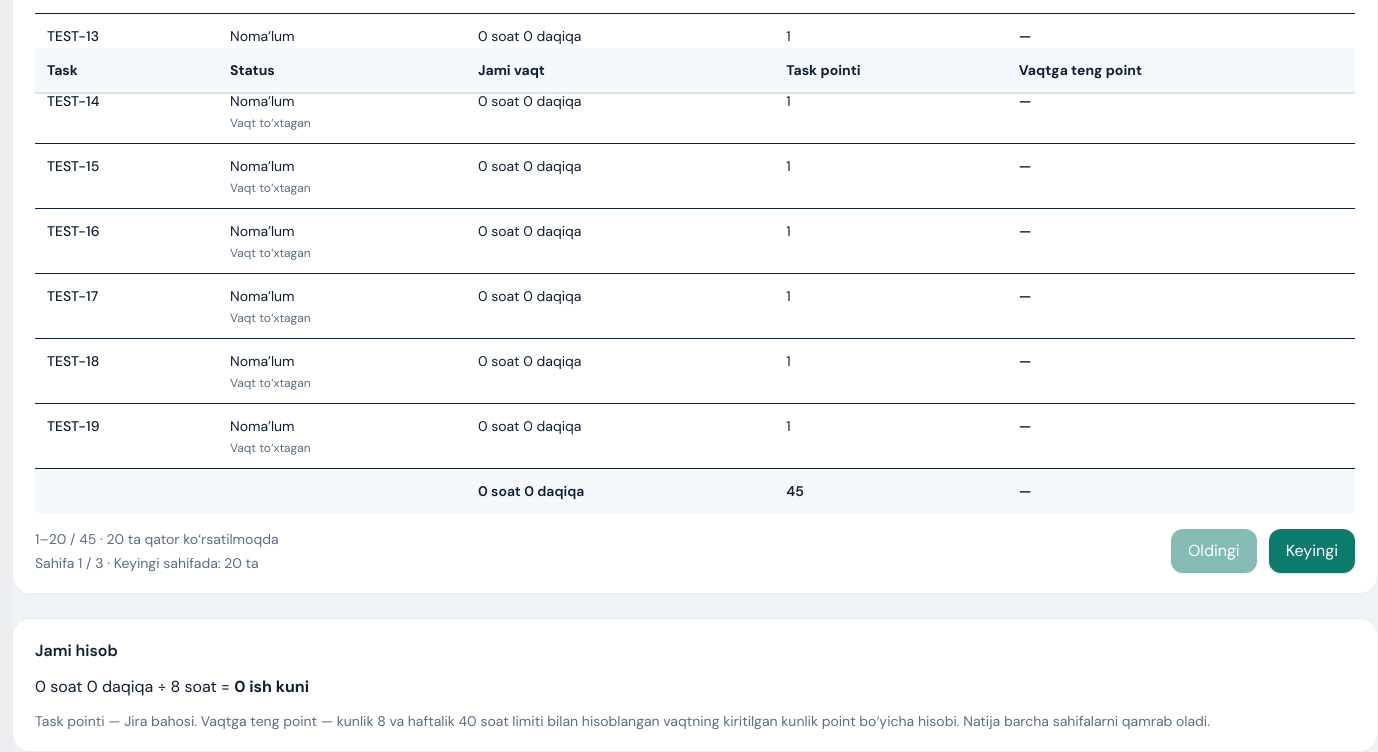
Test: Team Analytics view › shows row ranges, page numbers and the next page size
(page scrolled)
Expected: the text "1–20 / 45 · 20 ta qator ko‘rsatilmoqda" is shown, [35,529,279,549]
Expected: the text "Sahifa 1 / 3 · Keyingi sahifada: 20 ta" is shown, [35,553,279,573]
Click the button "Keyingi" at x=1312, y=551, box [1269,529,1355,573]
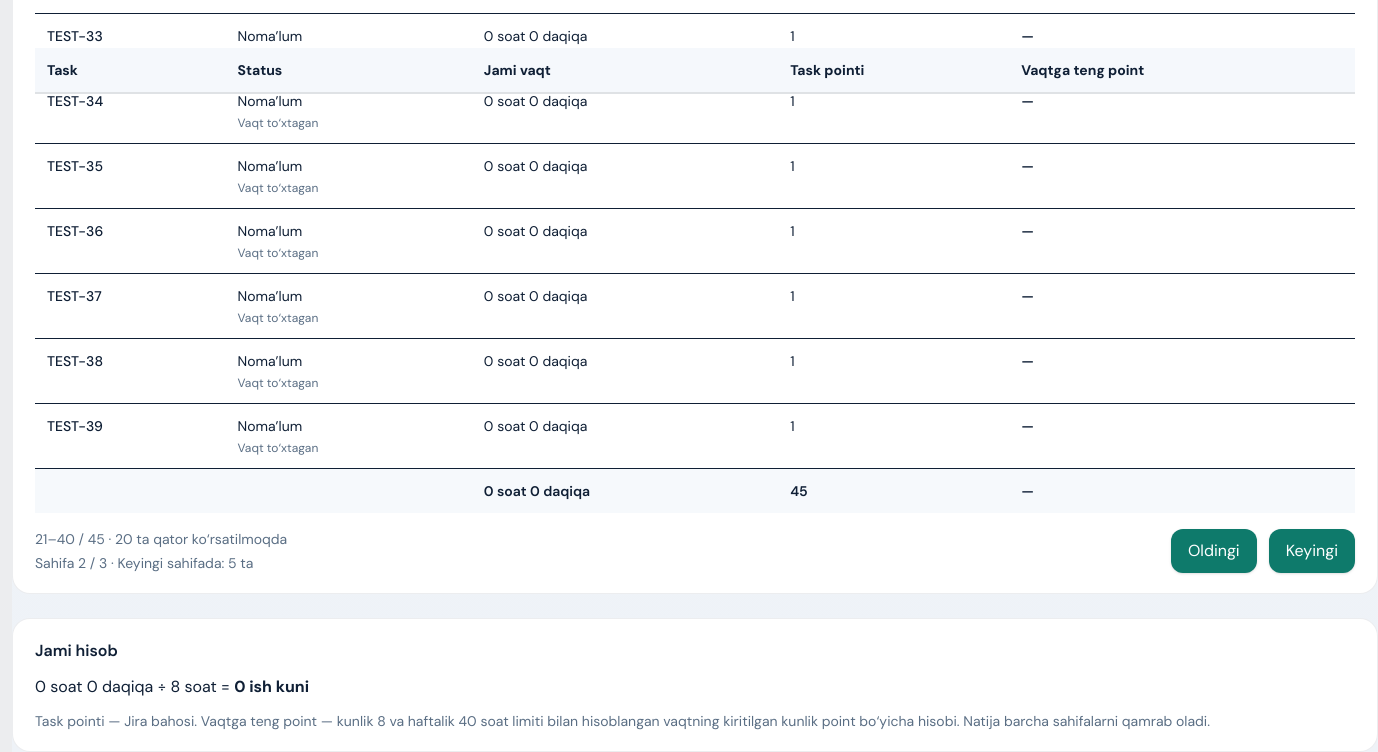
Result: the text "21–40 / 45 · 20 ta qator ko‘rsatilmoqda" is shown at [35,529,287,549]
Result: the text "Sahifa 2 / 3 · Keyingi sahifada: 5 ta" is shown at [35,553,287,573]
Click the button "Keyingi" at x=1312, y=551, box [1269,529,1355,573]
(page scrolled)
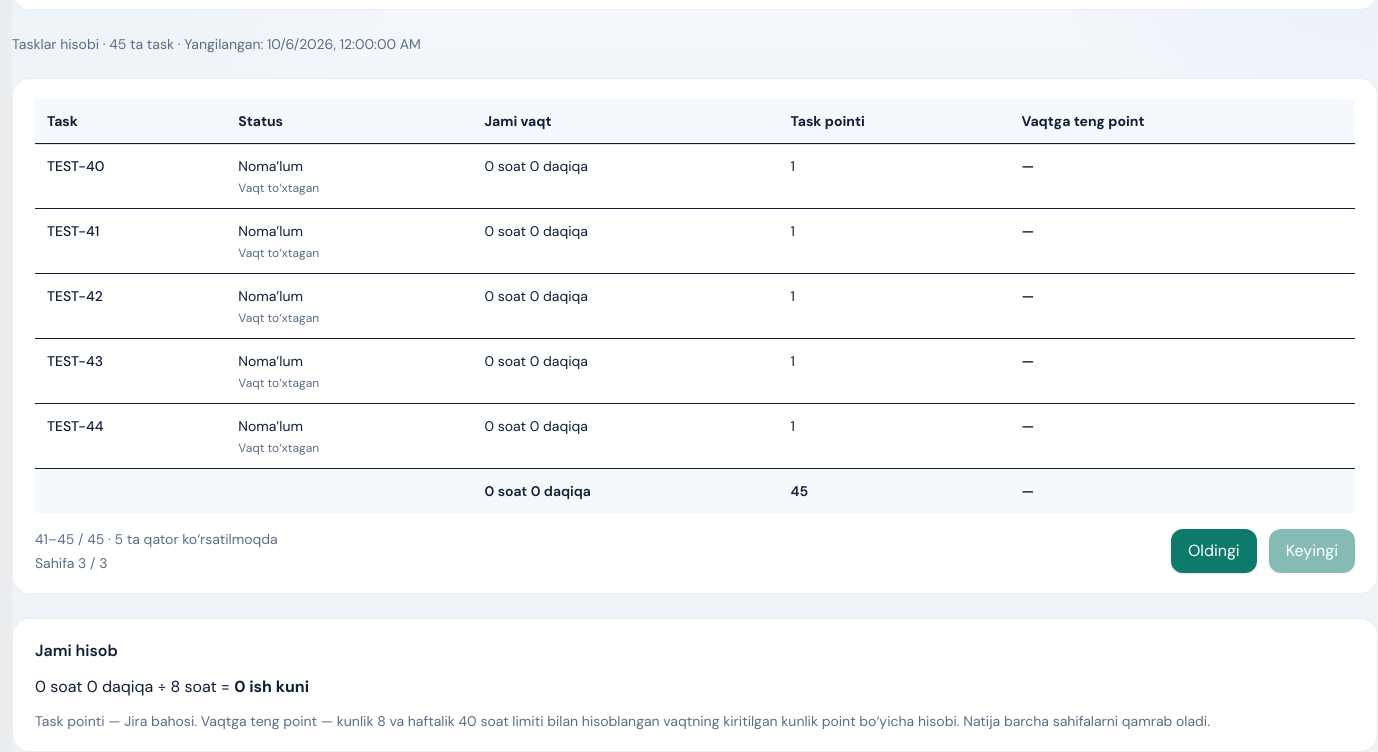
Result: the text "41–45 / 45 · 5 ta qator ko‘rsatilmoqda" is shown at [35,529,278,549]
Result: the button "Keyingi" is disabled at [1269,529,1355,573]
